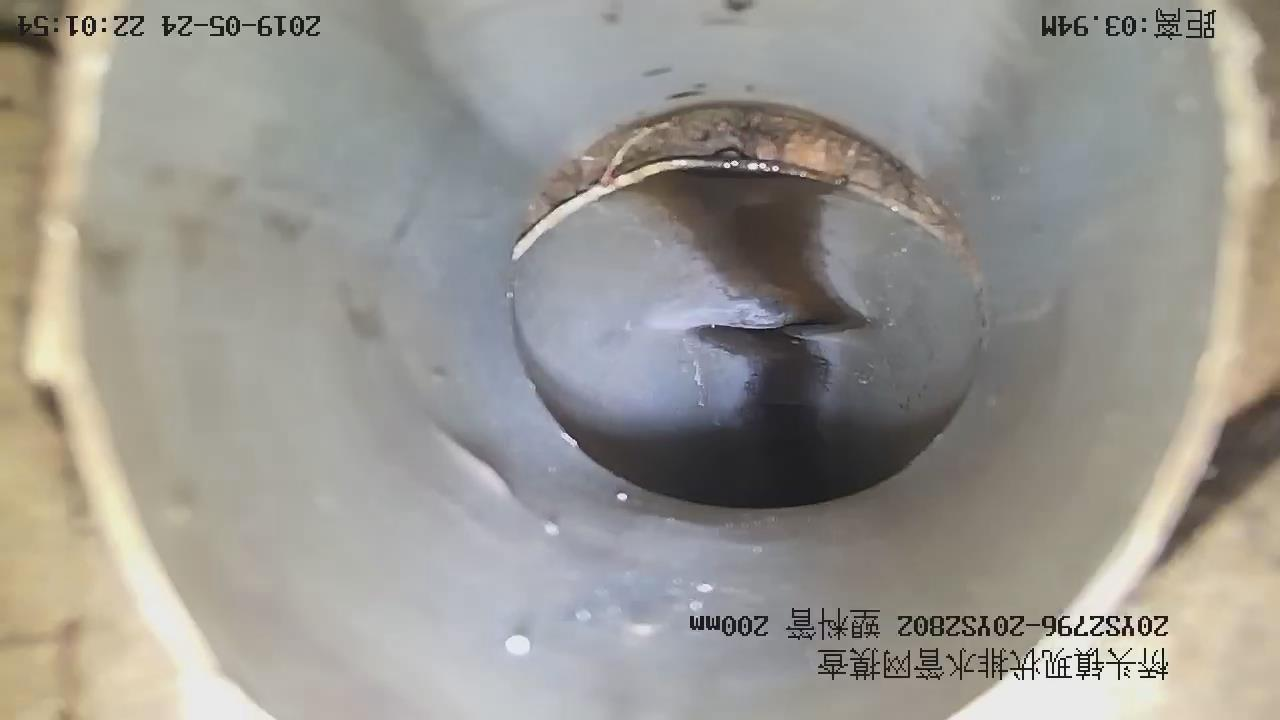BX: (641, 275, 857, 356)
CKTJ: (513, 106, 978, 279)
